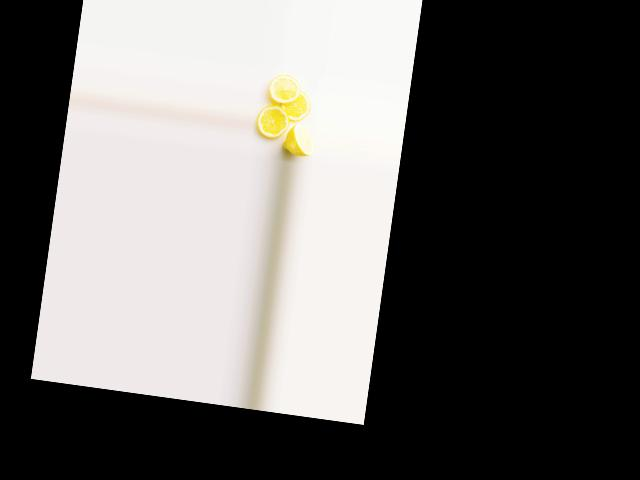lemon: (284, 122, 317, 160)
